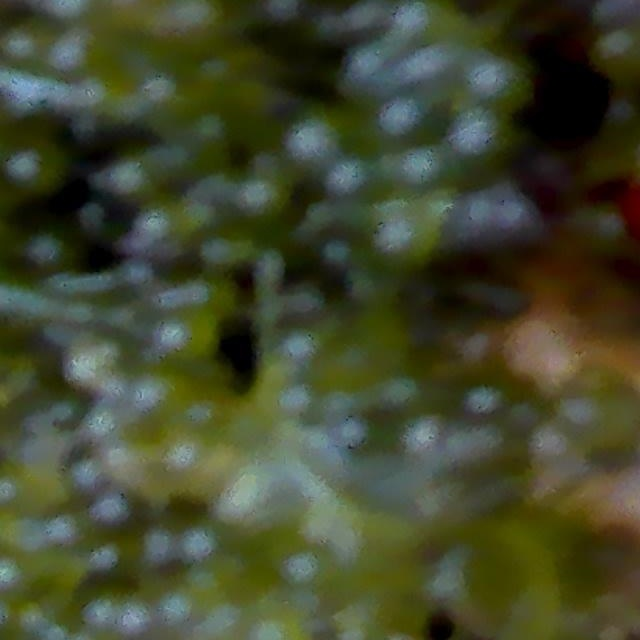SeaGrape: (91, 487, 149, 542), (285, 117, 336, 166), (451, 107, 498, 154)
